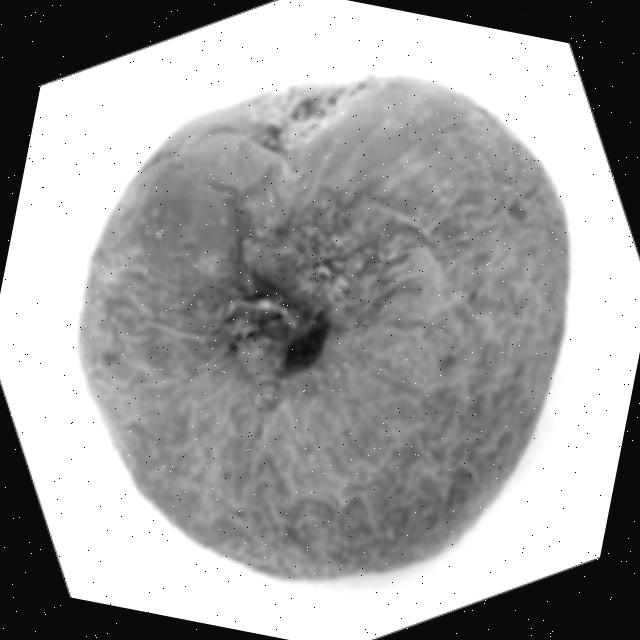Rotten: (32, 8, 618, 623)
